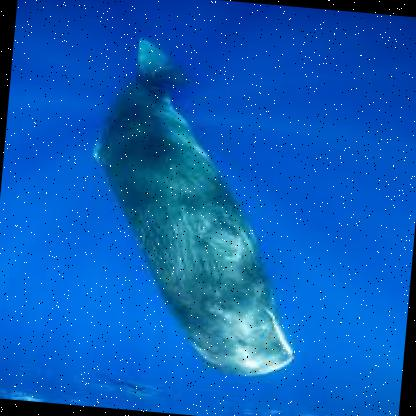sperm_whale: (57, 1, 364, 399)
